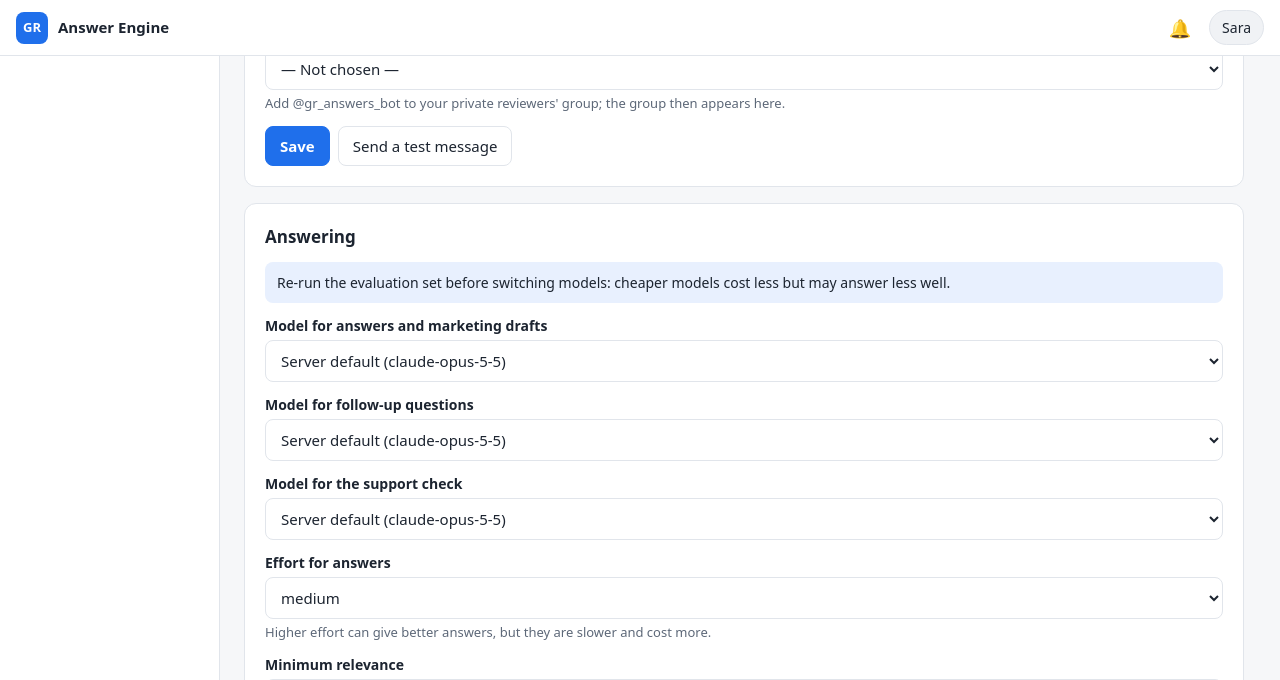
Scenario: answering: choose a cheaper model and a higher effort
(page scrolled)
Step 1. Select "claude-sonnet-5-5 — $2 / $10 per million tokens" in the dropdown labelled "Model for answers and marketing drafts" → (744, 360), box x1=265 y1=340 x2=1223 y2=382
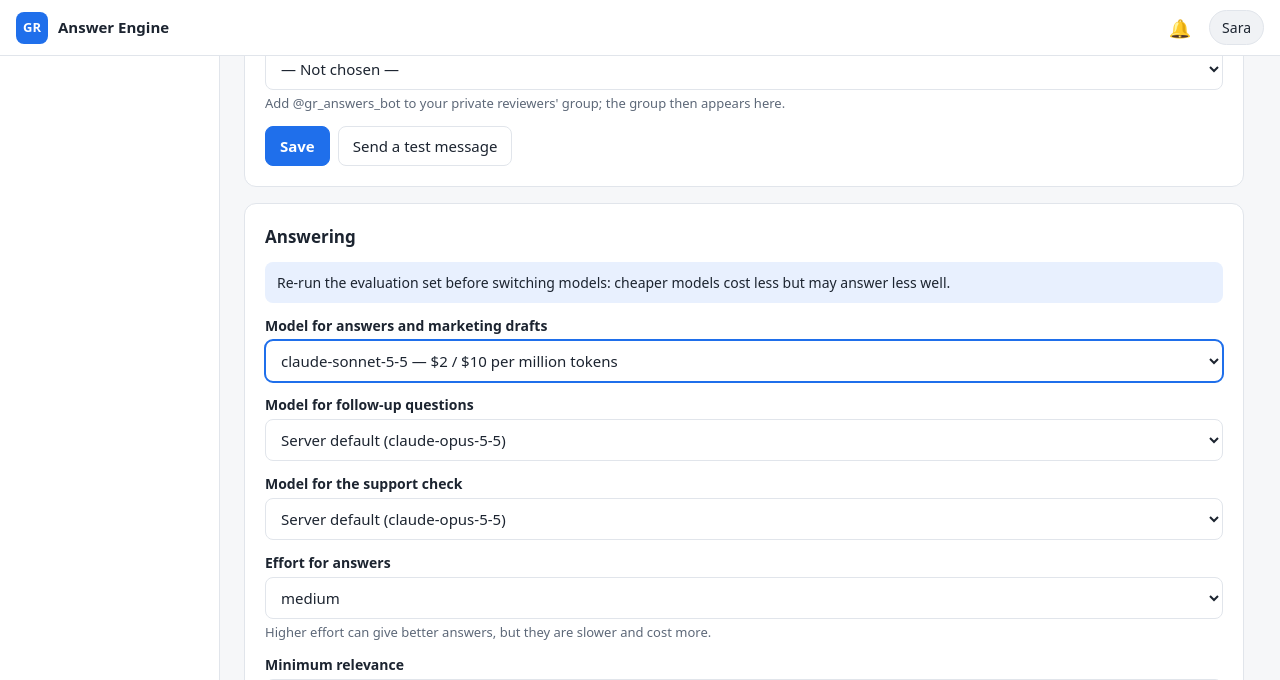
Step 2. Select "high" in the dropdown labelled "Effort for answers" → (744, 598), box x1=265 y1=576 x2=1223 y2=618
(page scrolled)
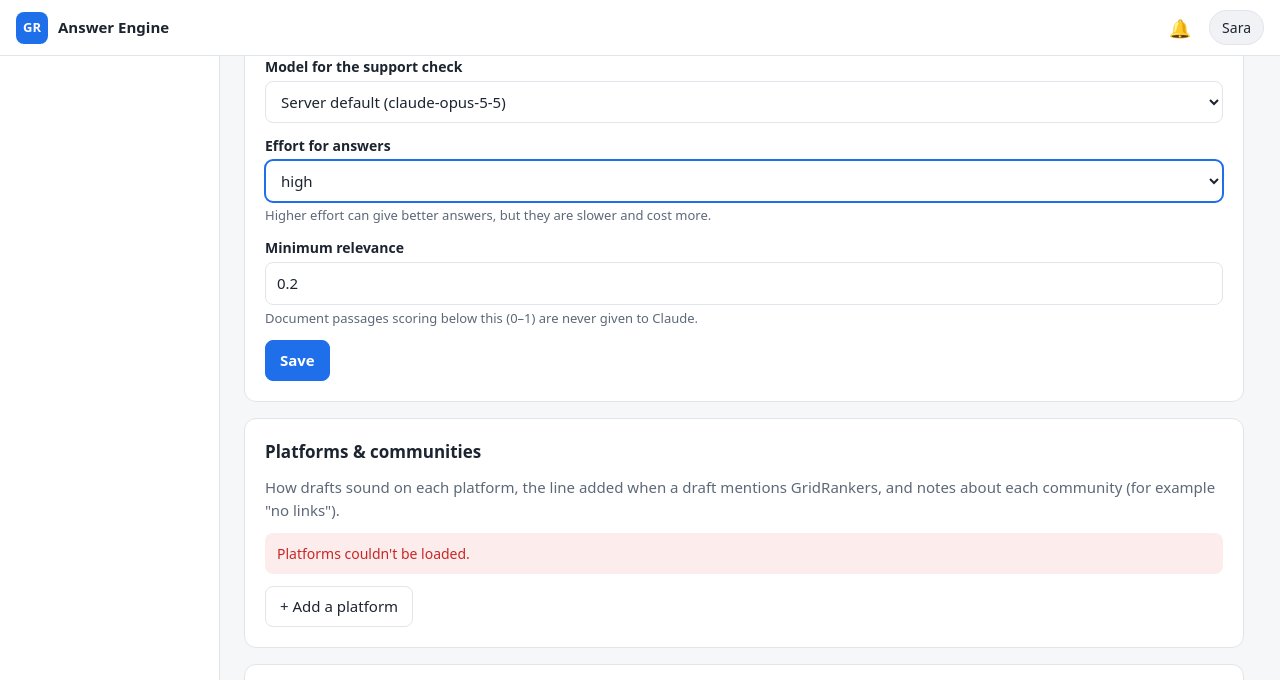
Step 3. Click the button "Save" → (297, 360), box x1=265 y1=340 x2=330 y2=380
(page scrolled)
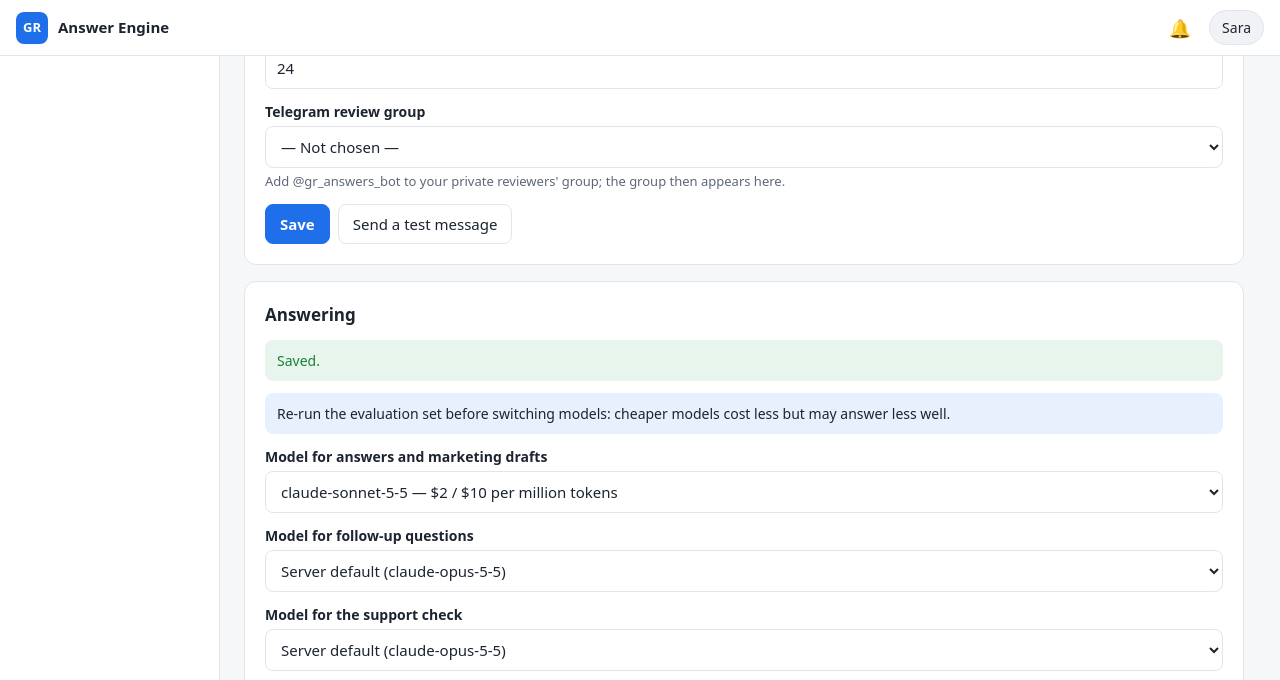
expect the text "Saved." is shown: met, box x1=265 y1=340 x2=1223 y2=380
